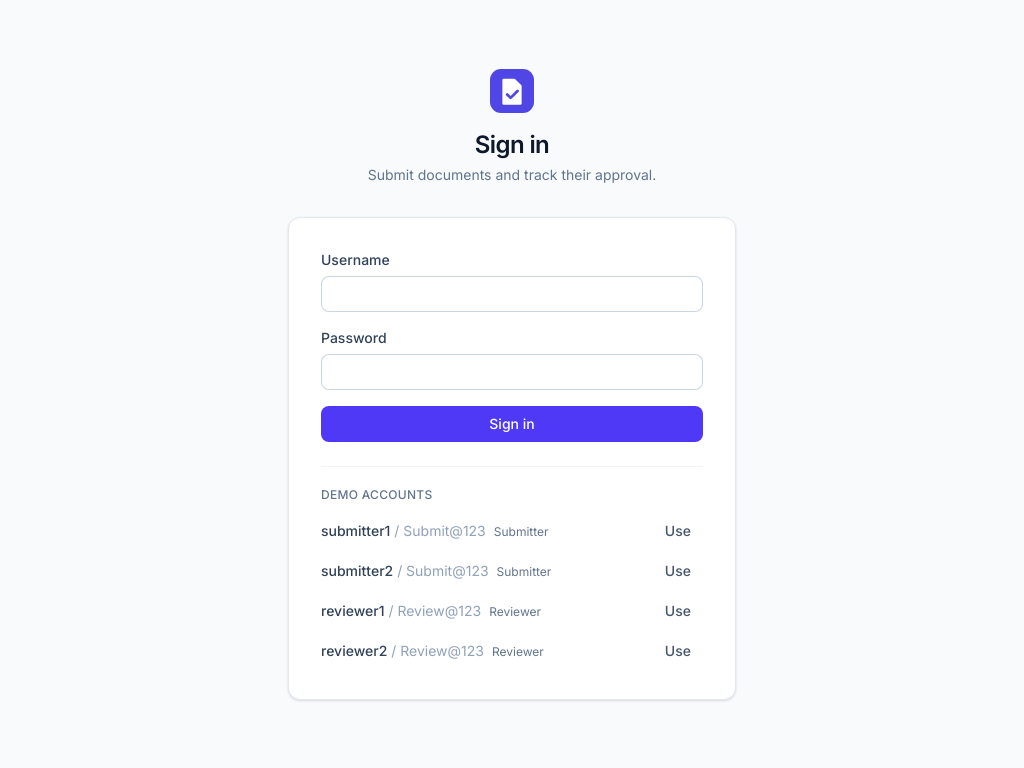
LoginPage › sends a reviewer to the review queue, using a demo account shortcut
Click the button "Use" in the row of "reviewer1" at [678, 610], box [653,594,703,626]
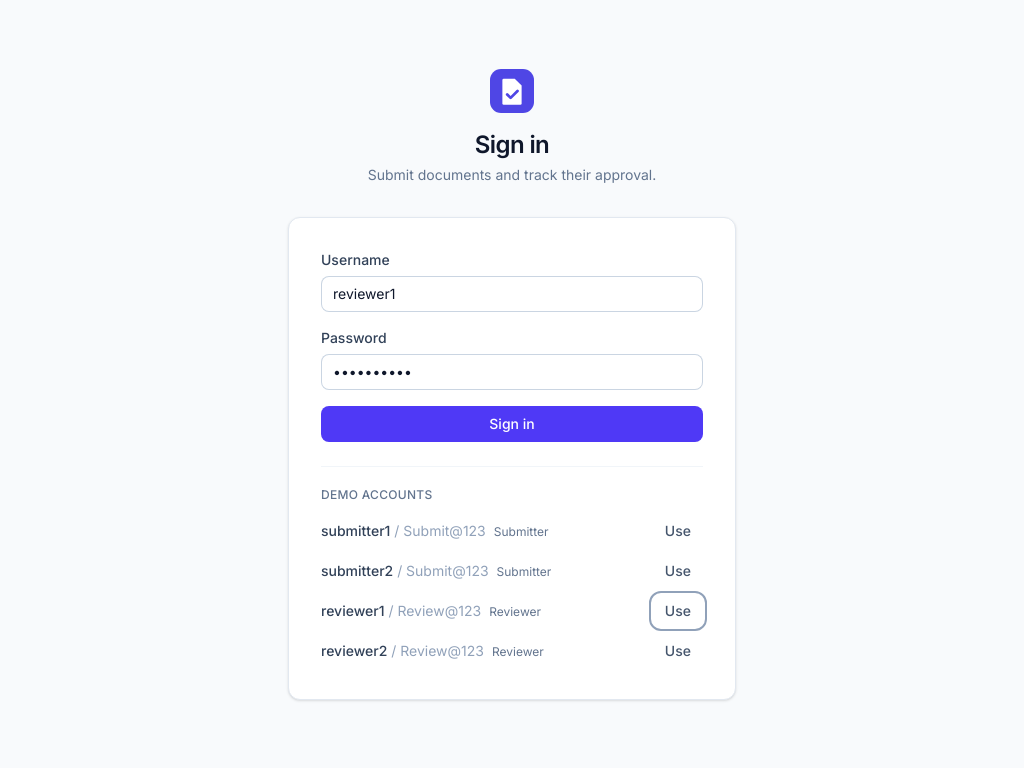
Click the button "Sign in" at [512, 424], box [321,406,703,442]
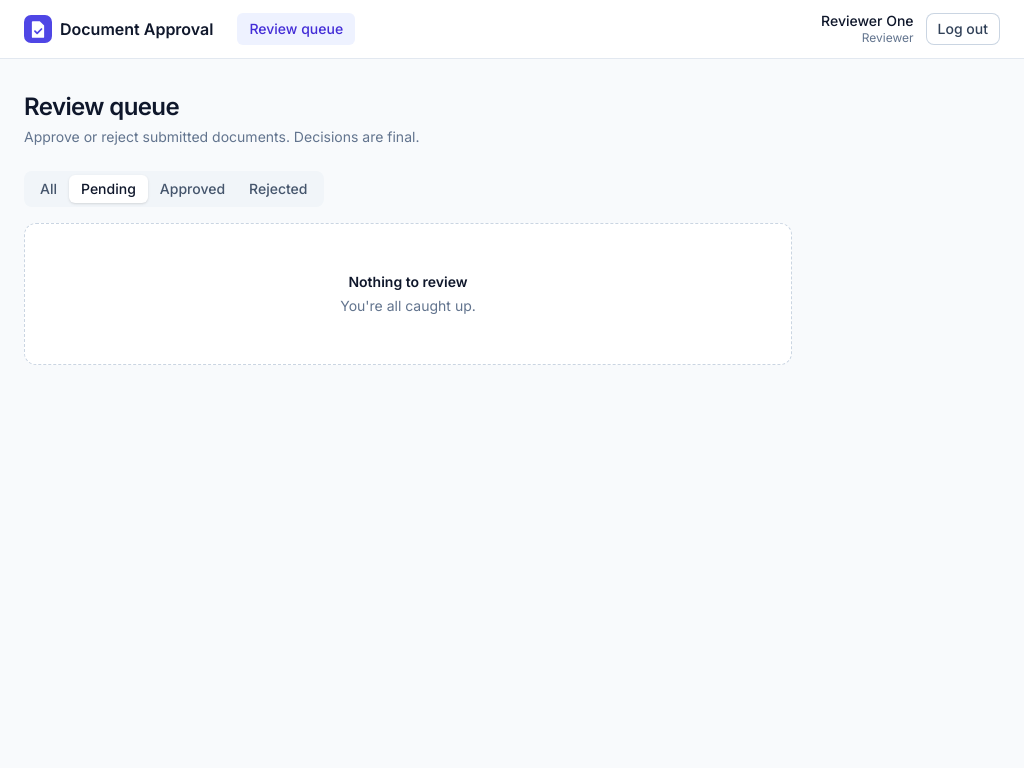
Expected: the heading "Review queue" is shown, [24,92,179,120]
